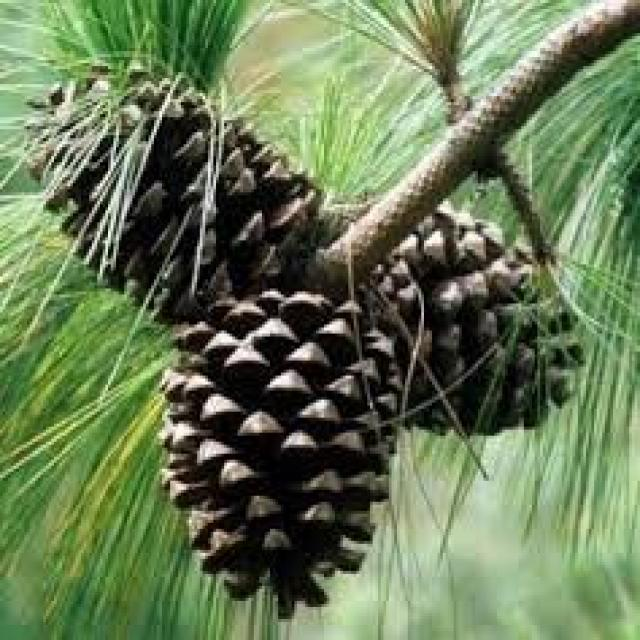Pine: (51, 85, 294, 294), (179, 218, 356, 491)
